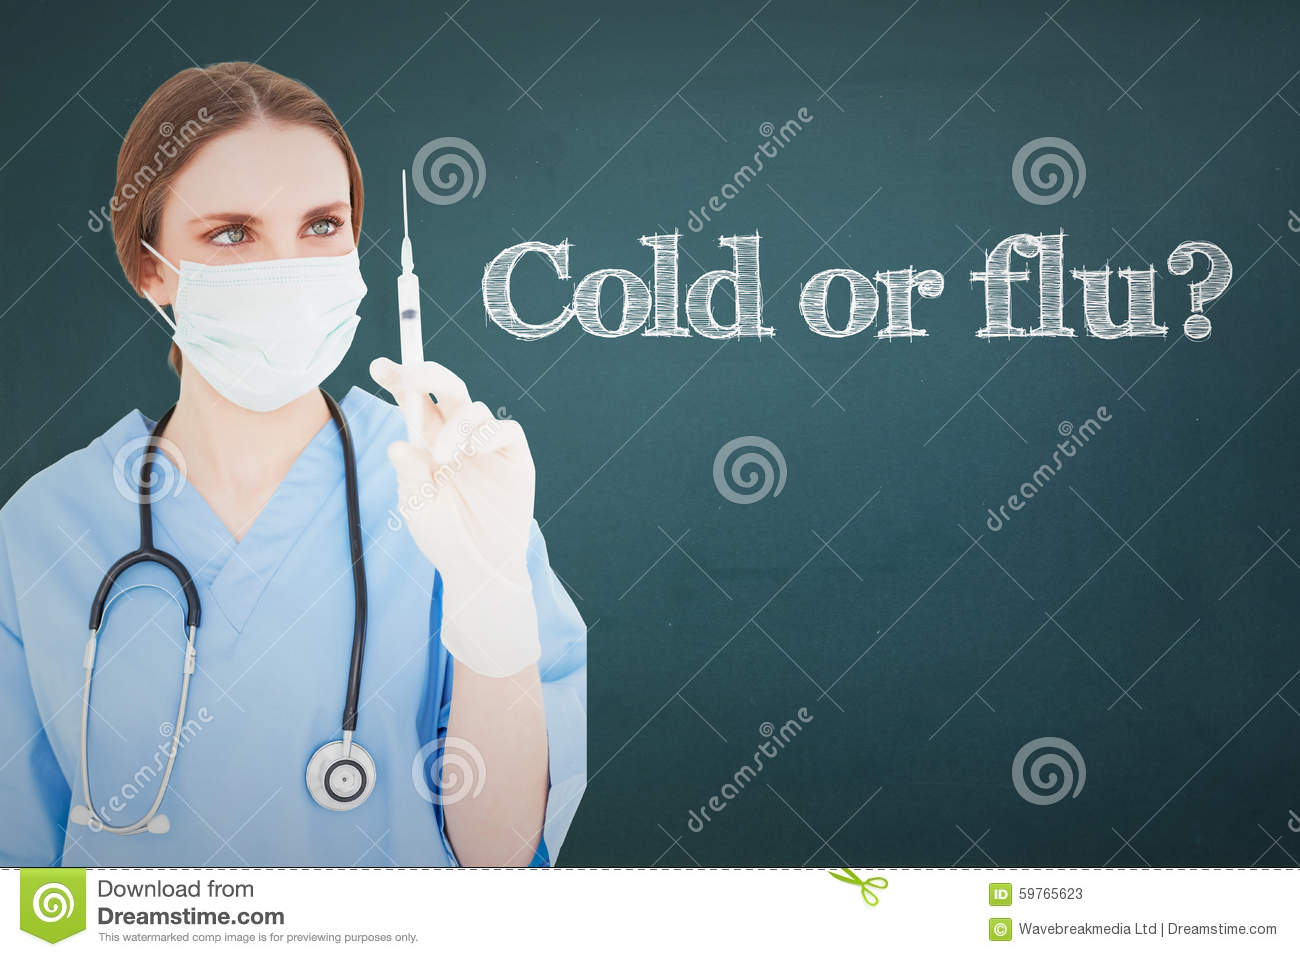mask: (167, 259, 361, 407)
